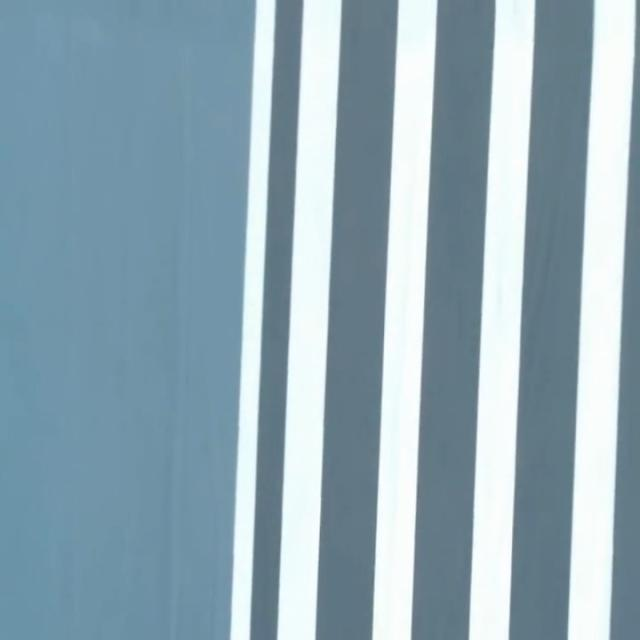left: (229, 0, 275, 639)
